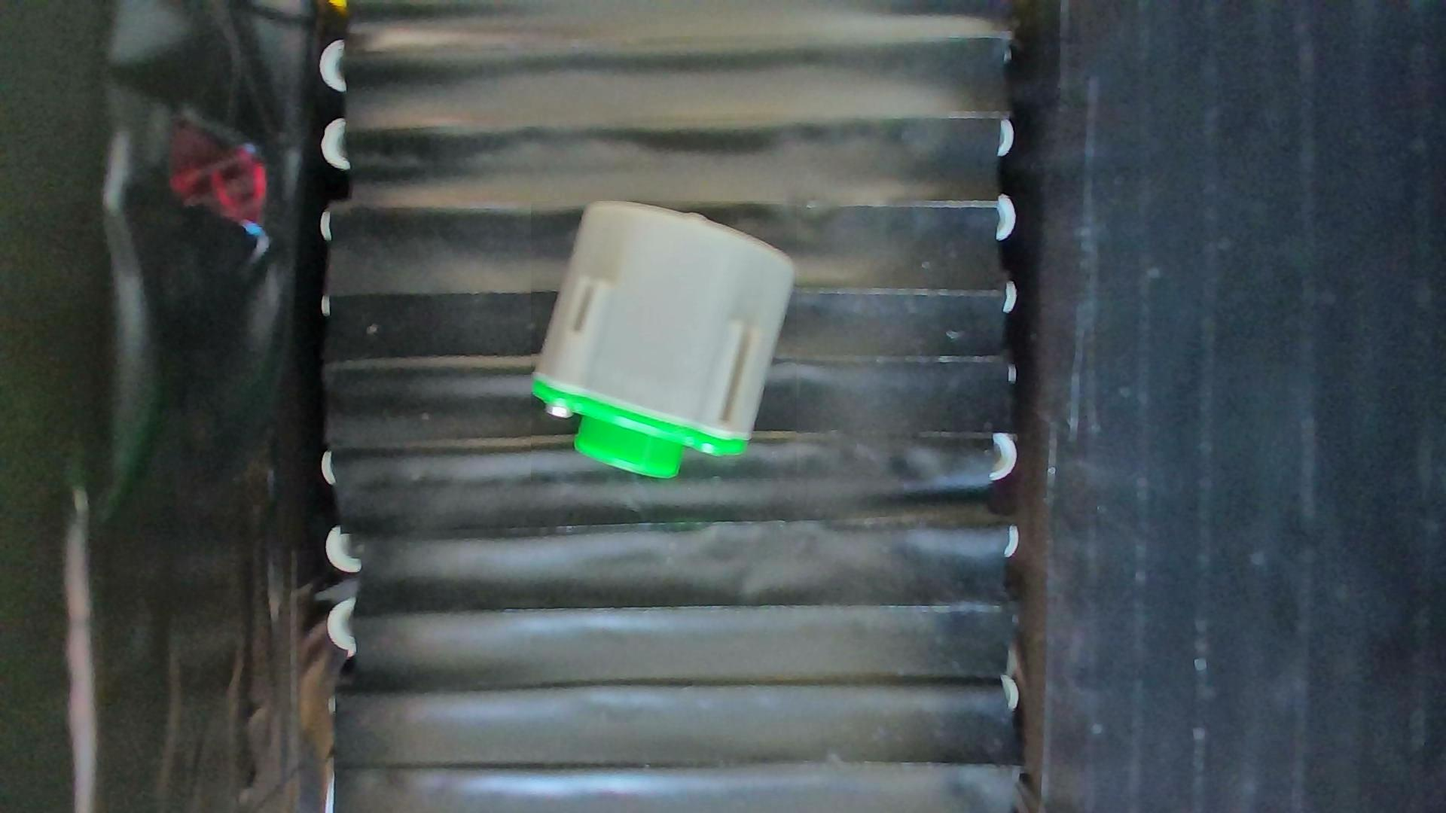cartridge: (532, 201, 798, 482)
